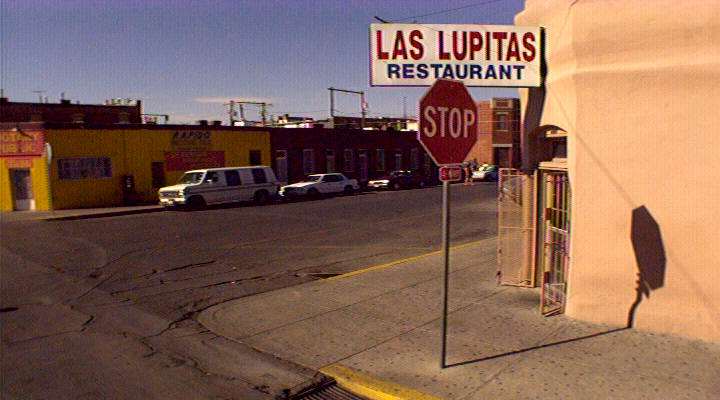Ramp: (179, 268, 398, 389)
